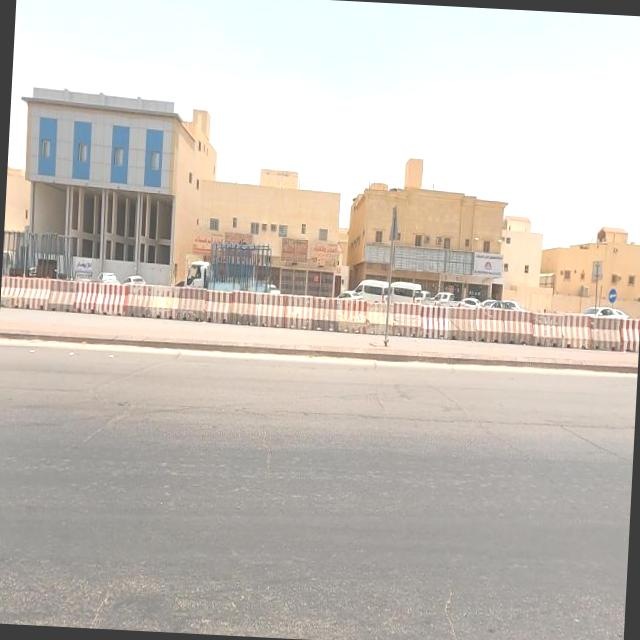debris: (341, 205, 453, 309), (398, 221, 495, 304)
